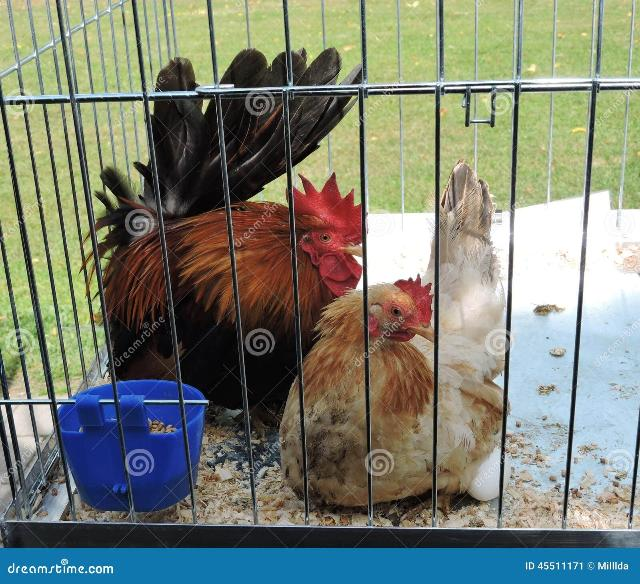Chicken: (88, 46, 368, 412), (279, 158, 510, 508)
